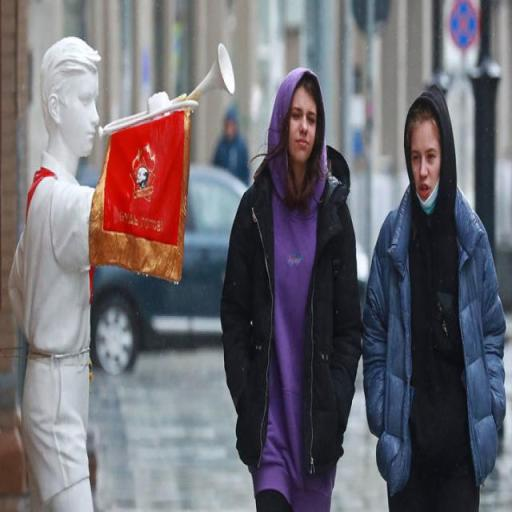person: (219, 69, 363, 512), (369, 86, 507, 512)
